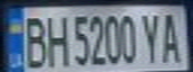0: (121, 10, 139, 65), (103, 11, 121, 65)
2: (87, 11, 106, 66)
5: (69, 11, 90, 68)
A: (157, 9, 187, 64)
B: (18, 11, 48, 69)
H: (42, 11, 69, 68)
Y: (139, 9, 166, 64)
